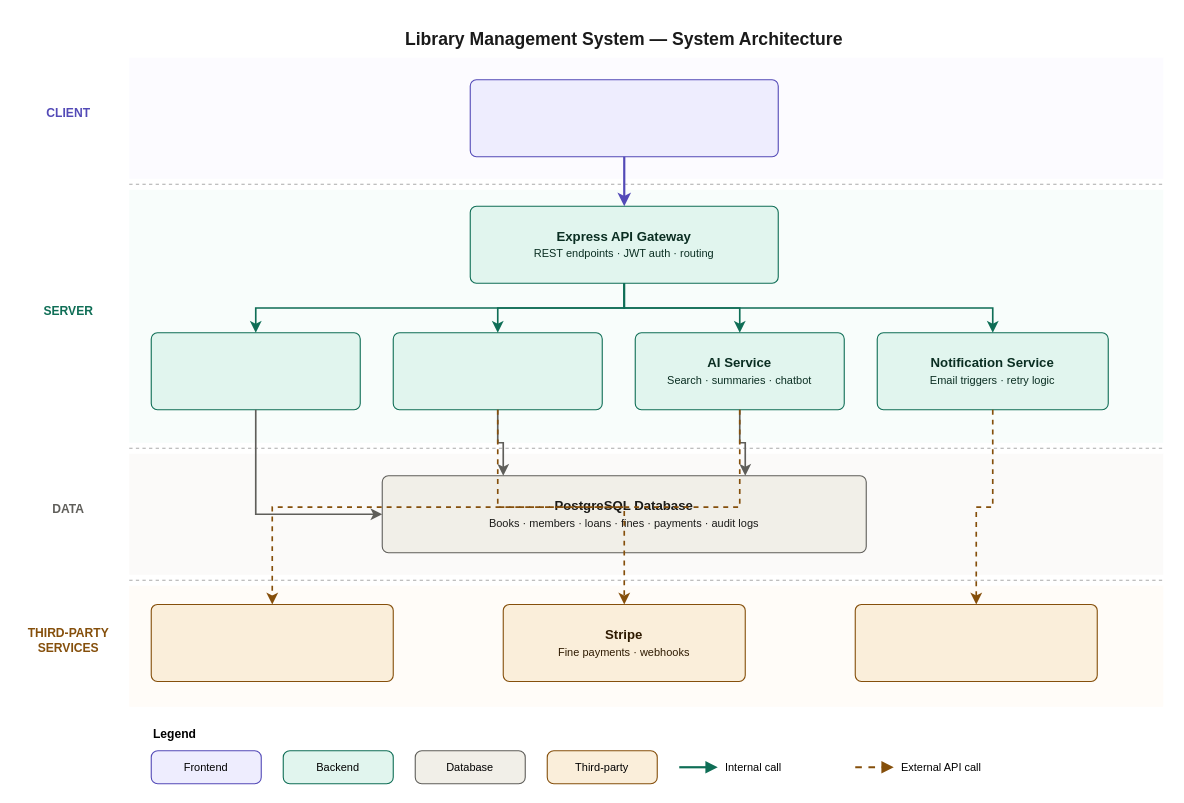
This 1184x803 diagram has some shape labels left out. The shapes that lost their labels are listed below. From the top down, each one's centre as x and y in pixels, then its label:
At (623,118): "React App Catalog, loans, fines, chatbot UI".
At (255,371): "Auth Service JWT · bcrypt · sessions".
At (497,371): "Core Service Books · loans · fines".
At (271,642): "LLM API Anthropic Claude / OpenAI".
At (975,642): "SendGrid Transactional email delivery".
